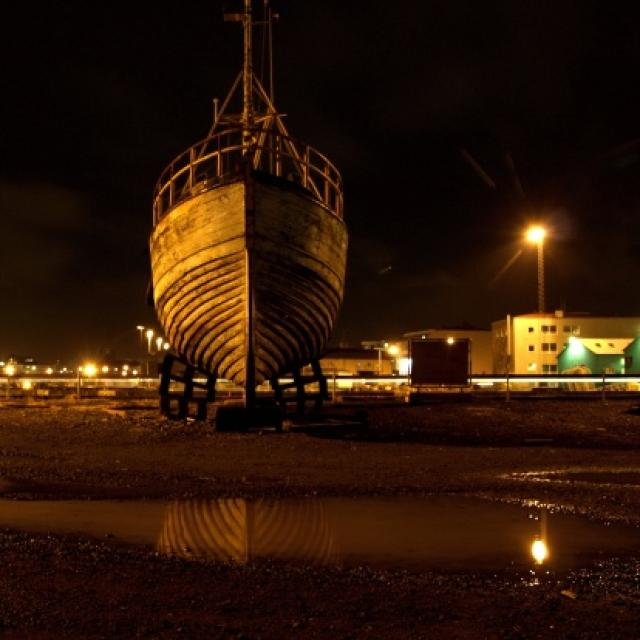Boat: (125, 0, 359, 436)
